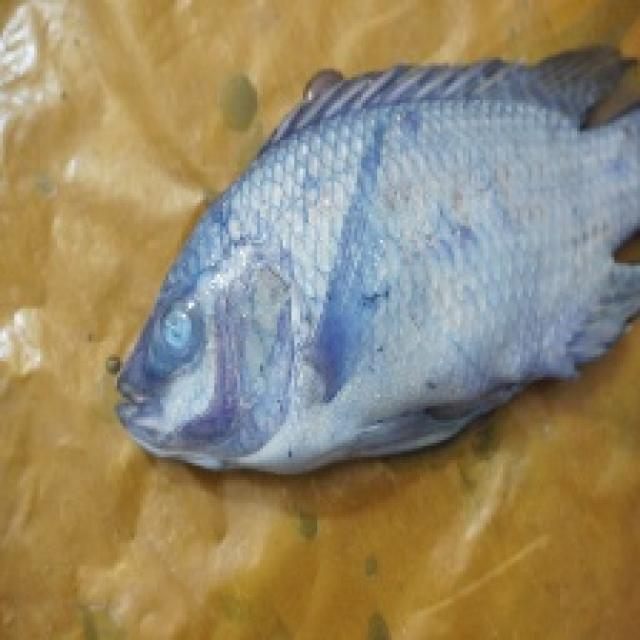Non-Fresh: (237, 106, 540, 450), (139, 298, 213, 374)
